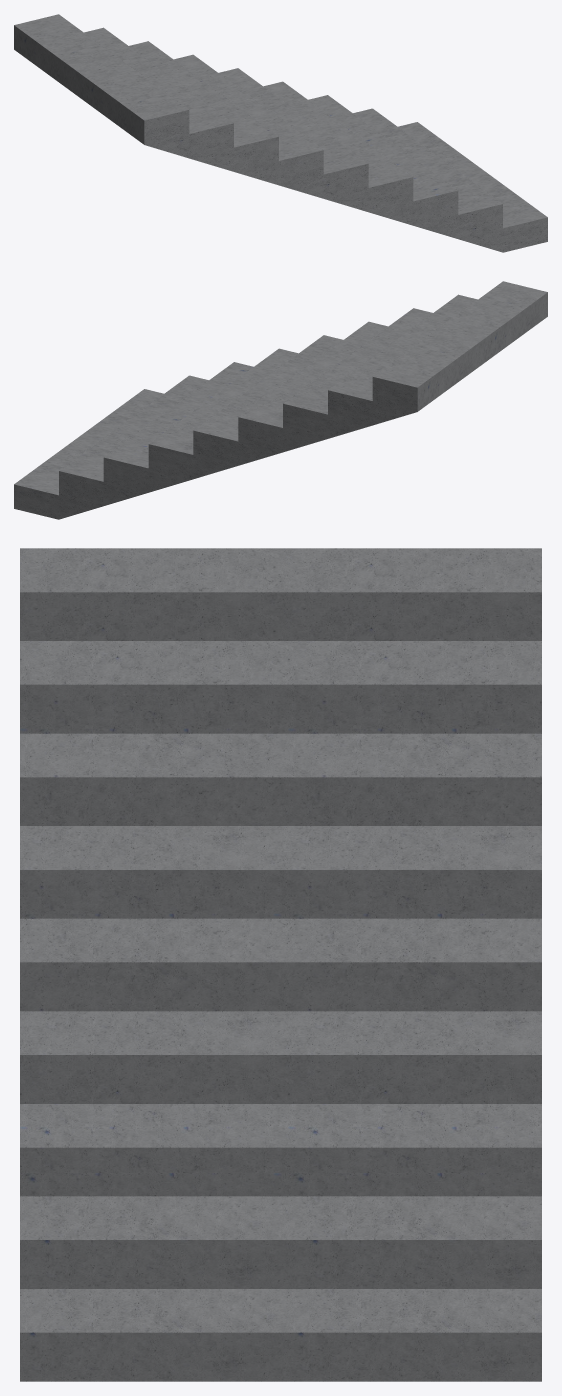
The model's file is stiars.fbx.
The picture shows the model from 3 angles, top to bottom: view 1: azimuth 30°, elevation 25°; view 2: azimuth 150°, elevation 25°; view 3: azimuth 270°, elevation 25°; orthographic projection. The views are drawn at different scales.
Parts seen in each view (by area): view 1: Cube.008; view 2: Cube.008; view 3: Cube.008.
Boxes of the visible parts, left/top/right/bottom form: Cube.008: left=14, top=14, right=547, bottom=252; Cube.008: left=14, top=281, right=547, bottom=519; Cube.008: left=20, top=548, right=541, bottom=1381.
Bounding box in the file's own units: 500 × 260 × 280.
